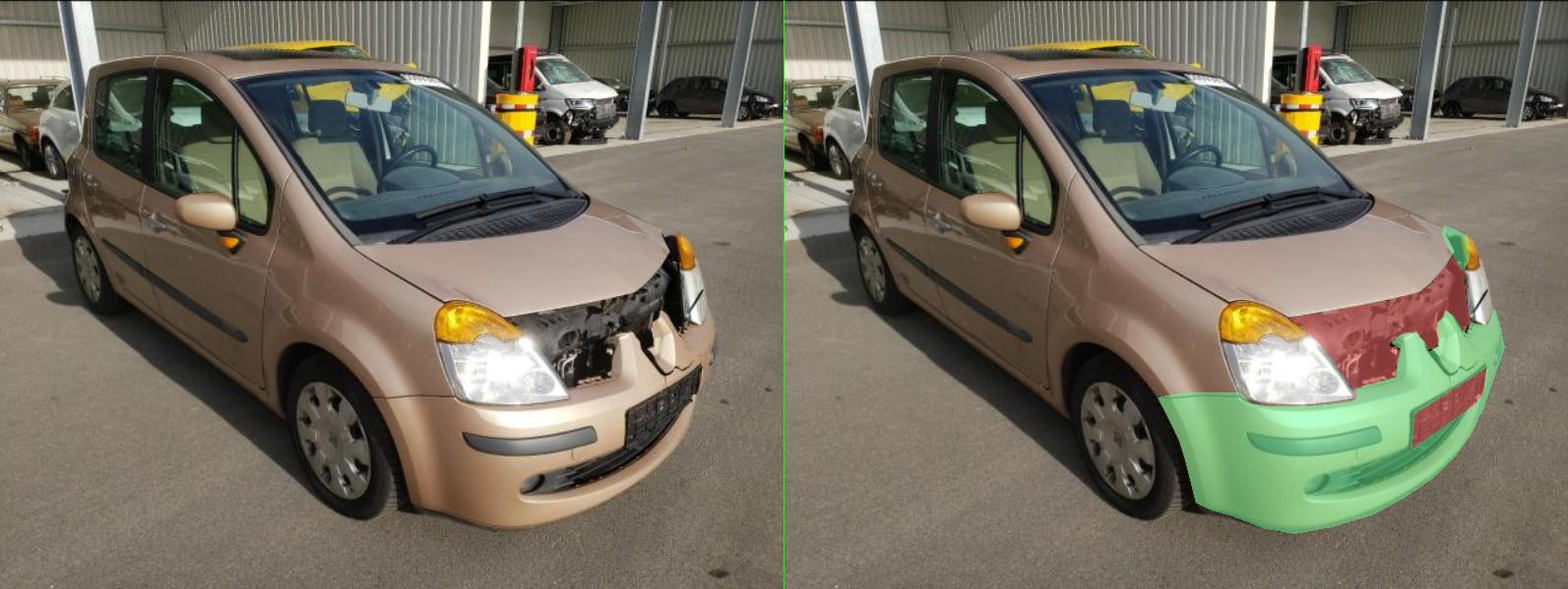Broken part: (747, 309, 1440, 533), (1316, 225, 1369, 269)
Missing part: (1011, 252, 1371, 387), (1257, 369, 1403, 447)
